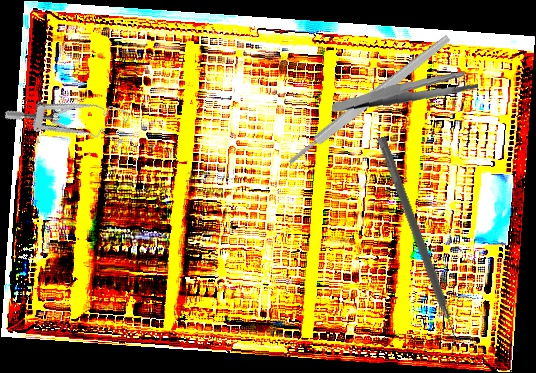Dressing Forceps: (331, 63, 479, 122)
Scalpel Handle: (285, 33, 453, 167)
Spatula Surgical: (366, 135, 466, 351)
Speculum: (2, 71, 134, 162)
